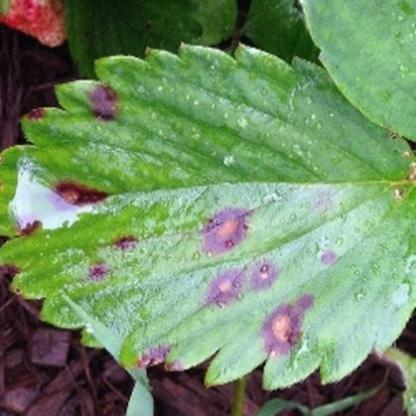Strawberry_Leaf_Spot: (0, 41, 415, 390)
